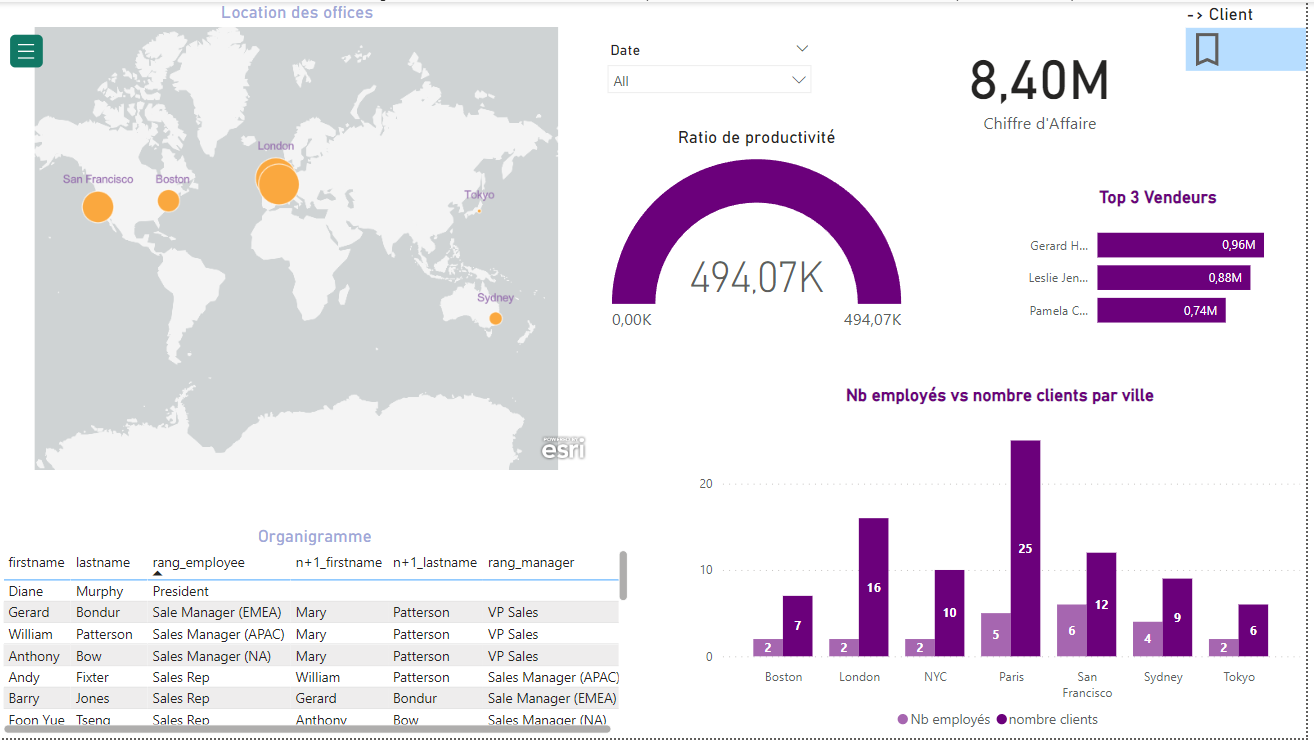

What the dashboard file says about the page in this screenshot:
{"tool":"powerbi","page":{"name":"RH","canvas":[1280,720],"ordinal":1},"visuals":[{"type":"shape","box":[652.5,160,306.2,200],"z":1000},{"type":"shape","box":[977.5,160,302.5,197.5],"z":2000},{"type":"shape","title":"ddd","box":[7,161.6,633.1,558.4],"z":3000},{"type":"esriVisual","title":"Chiffre d''Affaire par Office","fields":{"Location":["Table complète.office_city"],"Size":["Table complète.CA"],"Color":["Table complète.office_city"]},"box":[26.8,178.2,589.4,514.9],"z":4000},{"type":"clusteredBarChart","title":"Top 3 Vendeurs","fields":{"Category":["Table complète.Nom complet"],"Y":["Table complète.CA"]},"box":[660,160,293.3,203.3],"z":5000},{"type":"gauge","title":"Ratio de productivité","fields":{"Y":["Table complète.Productivité"],"MaxValue":["Table complète.Productivité"]},"box":[982.5,161.2,291.2,191.2],"z":6000},{"type":"shape","box":[652.5,371.2,626.2,348.8],"z":7000},{"type":"decompositionTreeVisual","title":"Organigramme","fields":{"Analyze":["Table complète.CA"],"ExplainBy":["Table complète.Nom n+1","Table complète.Nom complet"]},"box":[687.5,371.2,571.2,340],"z":8000},{"type":"shape","box":[965,29.9,152.8,65],"z":11000},{"type":"shape","box":[1123.9,29.9,137,65.9],"z":12000},{"type":"slicer","fields":{"Values":["Table complète.Date.Variation.Hiérarchie de dates.Année","Table complète.Date.Variation.Hiérarchie de dates.Mois"]},"box":[1123.9,31.6,136.1,59.7],"z":13000},{"type":"actionButton","title":"Vers Clients","box":[565.5,18.4,188.8,86.9],"z":14000},{"type":"actionButton","title":"Vers Offices","box":[754.2,18.4,187,86.9],"z":15000},{"type":"slicer","fields":{"Values":["Table complète.office_city"]},"box":[967.6,32.5,151,58.8],"z":19000},{"type":"actionButton","title":"Vers Offices","box":[371.4,14,187,87.8],"z":20000}]}

Visuals, with their boxes in screenshot pixels (x1, y1, x2, y2), scaled from the page's 1280x720 canvas onto the 1314x743 screenshot:
shape: bbox=[670, 165, 984, 372]
shape: bbox=[1003, 165, 1313, 369]
"ddd" shape: bbox=[7, 167, 657, 742]
"Chiffre d''Affaire par Office" esriVisual: bbox=[28, 184, 633, 715]
"Top 3 Vendeurs" clusteredBarChart: bbox=[678, 165, 979, 375]
"Ratio de productivité" gauge: bbox=[1009, 166, 1308, 364]
shape: bbox=[670, 383, 1313, 742]
"Organigramme" decompositionTreeVisual: bbox=[706, 383, 1292, 734]
shape: bbox=[991, 31, 1147, 98]
shape: bbox=[1154, 31, 1294, 99]
slicer - Table complète.Date.Variation.Hiérarchie de dates.Année x Table complète.Date.Variation.Hiérarchie de dates.Mois: bbox=[1154, 33, 1293, 94]
"Vers Clients" actionButton: bbox=[581, 19, 774, 109]
"Vers Offices" actionButton: bbox=[774, 19, 966, 109]
slicer - Table complète.office_city: bbox=[993, 34, 1148, 94]
"Vers Offices" actionButton: bbox=[381, 14, 573, 105]
